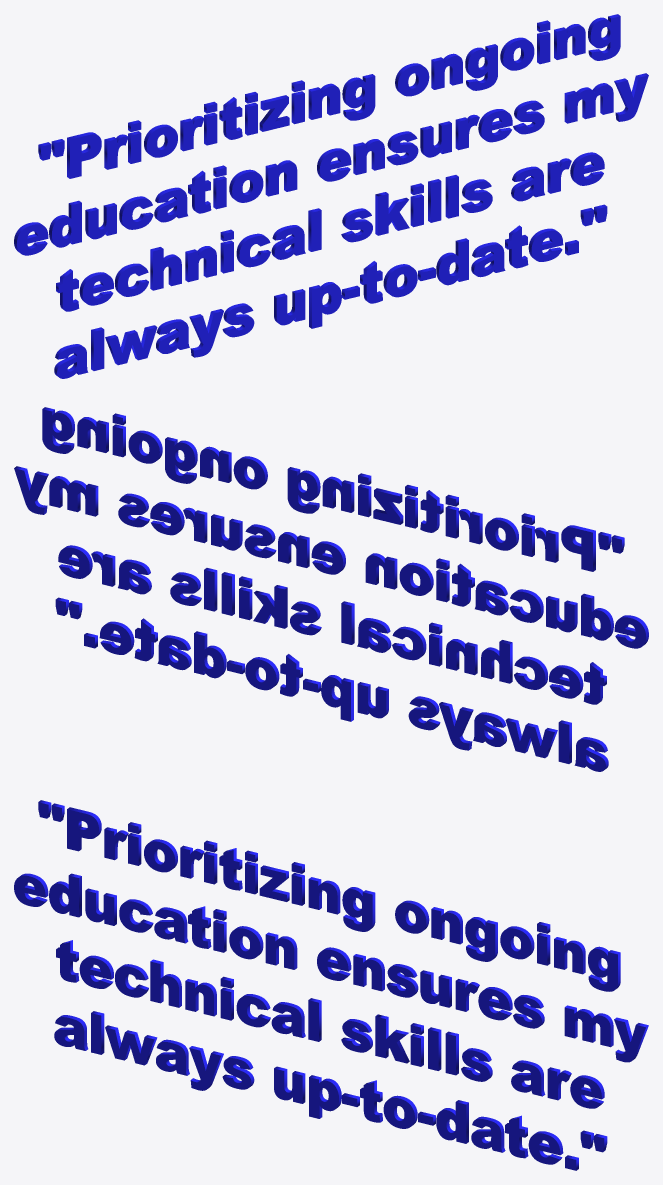
File: desc-n2education-transformed.glb
The picture shows the model from 3 angles, top to bottom: view 1: azimuth 30°, elevation 25°; view 2: azimuth 150°, elevation 25°; view 3: azimuth 330°, elevation 25°; orthographic projection.
Parts seen in each view (by area): view 1: education; view 2: education; view 3: education.
Part boxes in pixels (box(x1,y1,x2,y2)): education: box(14, 14, 648, 378); education: box(14, 407, 648, 771); education: box(14, 800, 648, 1170).
Bounding box in the file's own units: 0.129 × 0.0485 × 0.001.
